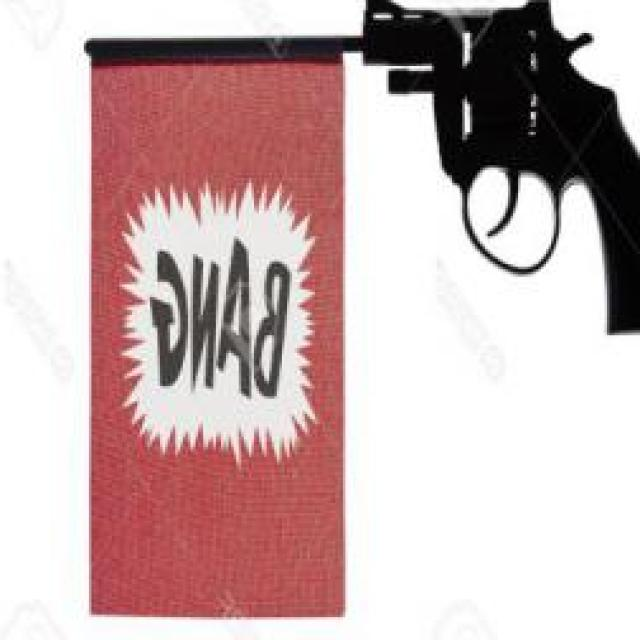pistol: (363, 0, 640, 338)
